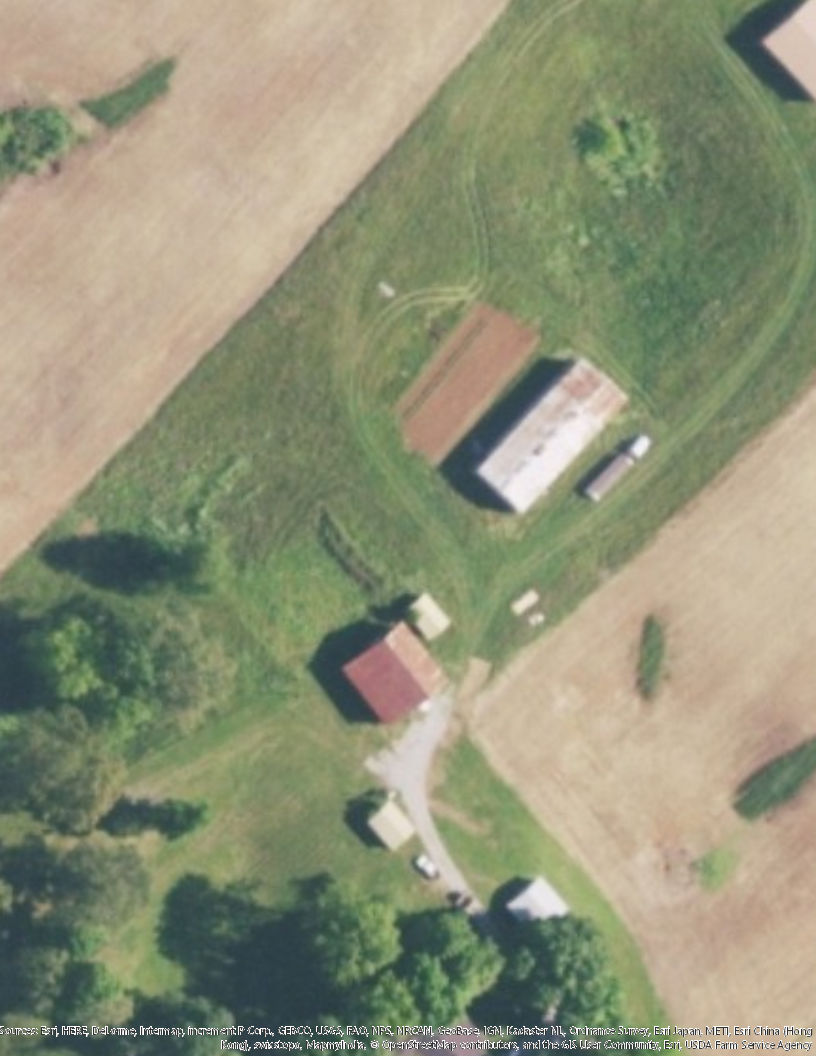cafo: (472, 352, 633, 516)
